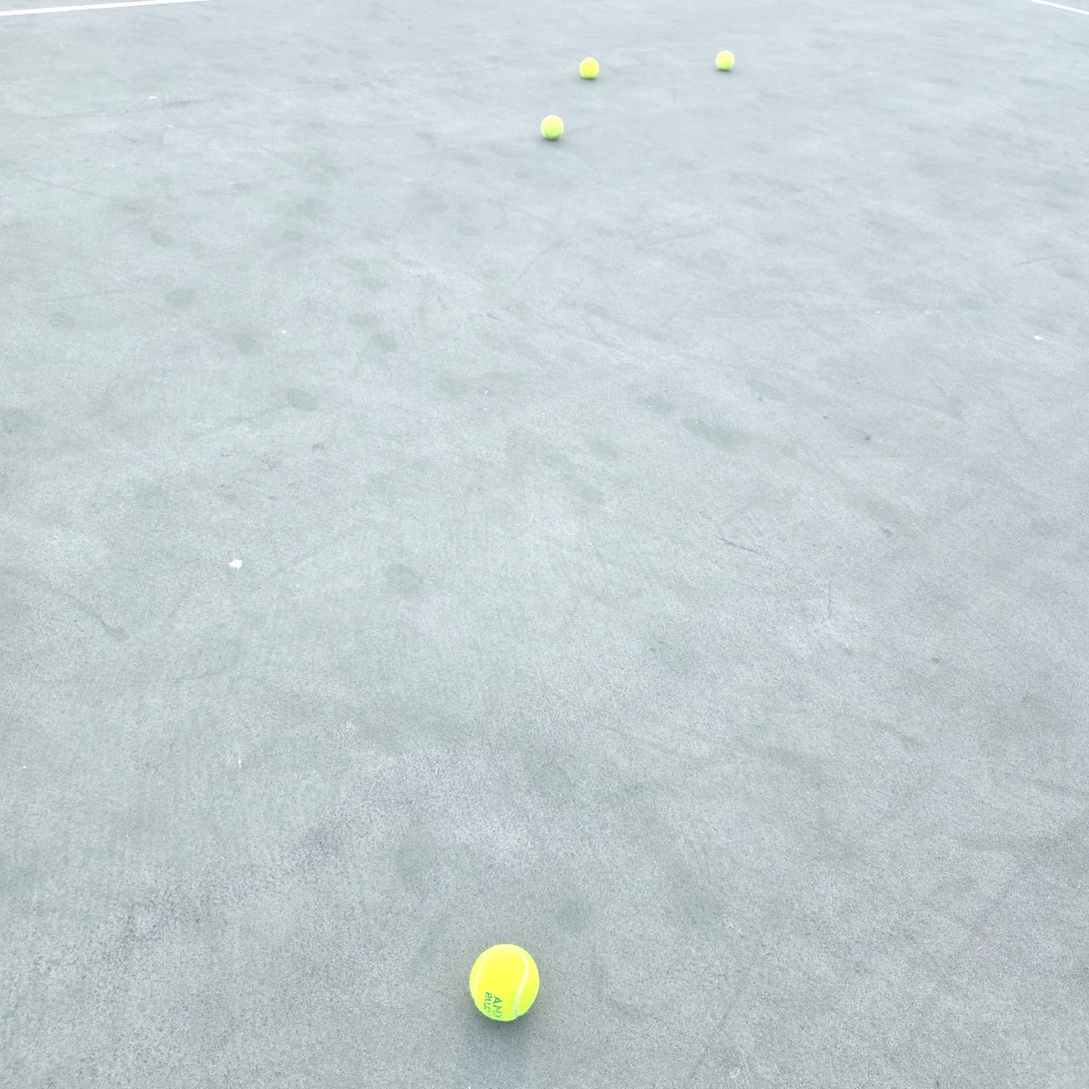tennis-ball: (469, 941, 542, 1023), (540, 112, 566, 140), (579, 55, 602, 79), (715, 48, 737, 71)
